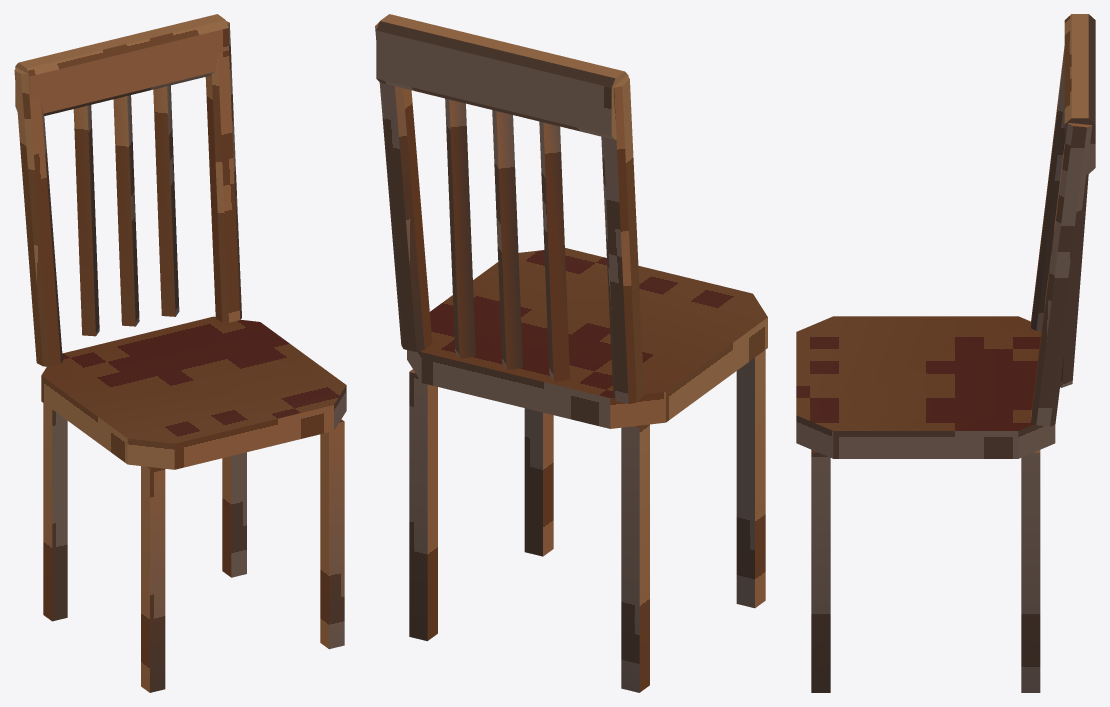
The model's file is wprop.chair.glb.
The picture shows the model from 3 angles, left to right: view 1: azimuth 30°, elevation 25°; view 2: azimuth 150°, elevation 25°; view 3: azimuth 270°, elevation 25°; orthographic projection. The views are drawn at different scales.
Parts seen in each view (by area): view 1: kit_seat, kit_legs, kit_back_posts, kit_spindles, kit_back; view 2: kit_seat, kit_legs, kit_back_posts, kit_back, kit_spindles; view 3: kit_seat, kit_back_posts, kit_legs, kit_back, kit_spindles.
Boxes of the visible parts, left/top/right/bottom form: kit_seat: left=41, top=316, right=346, bottom=469; kit_legs: left=43, top=403, right=344, bottom=692; kit_back_posts: left=14, top=21, right=241, bottom=366; kit_spindles: left=73, top=85, right=179, bottom=336; kit_back: left=15, top=14, right=228, bottom=115; kit_seat: left=407, top=248, right=767, bottom=428; kit_legs: left=409, top=350, right=765, bottom=692; kit_back_posts: left=375, top=22, right=644, bottom=403; kit_back: left=376, top=14, right=628, bottom=139; kit_spindles: left=445, top=98, right=569, bottom=381; kit_seat: left=796, top=316, right=1055, bottom=458; kit_back_posts: left=1031, top=46, right=1092, bottom=426; kit_legs: left=811, top=450, right=1040, bottom=692; kit_back: left=1064, top=14, right=1095, bottom=174; kit_spindles: left=1060, top=174, right=1088, bottom=387.
Size of the model in its own units: 0.44 by 1.03 by 0.485.
Materials: 2 (2 with a texture image).
